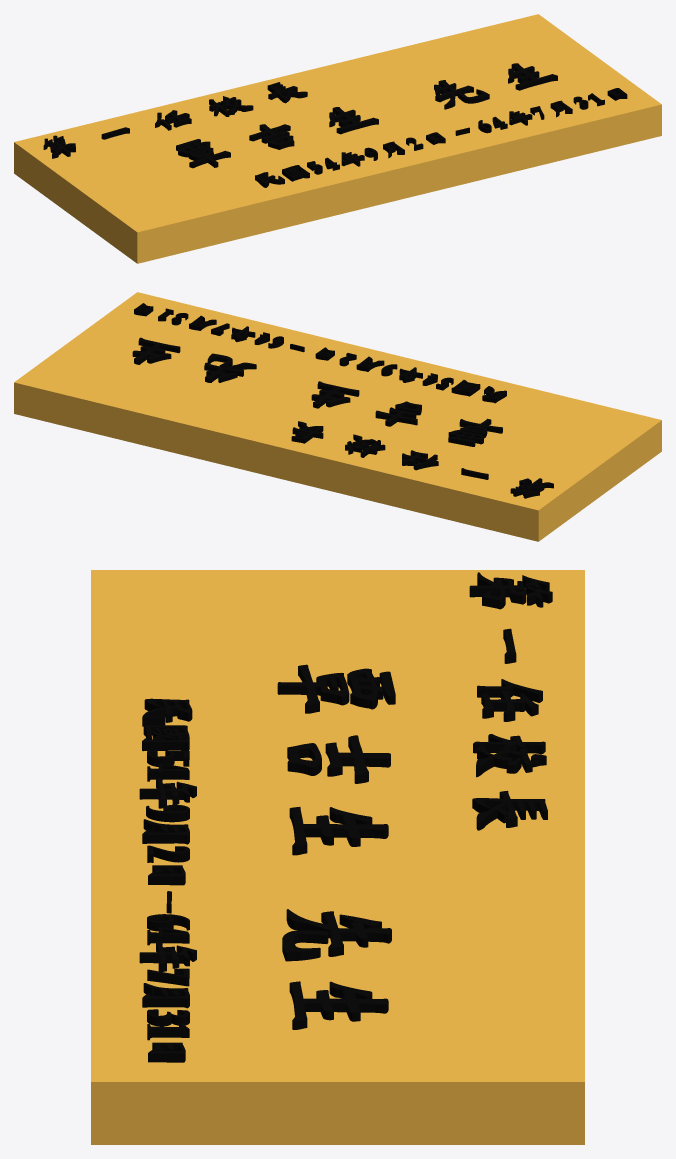
The model's file is 第一任.FBX.
3 renders of one model, top to bottom at view 1: azimuth 30°, elevation 25°; view 2: azimuth 150°, elevation 25°; view 3: azimuth 270°, elevation 25°, orthographic. The views are drawn at different scales.
Parts seen in each view (by area): view 1: Box002, Text013, Text014, Text015; view 2: Box002, Text013, Text014, Text015; view 3: Box002, Text013, Text014, Text015.
Part boxes in pixels (<box>): Box002: <box>14,14,661,263</box>; Text013: <box>176,63,557,168</box>; Text014: <box>255,88,627,187</box>; Text015: <box>43,82,307,158</box>; Box002: <box>14,292,661,541</box>; Text013: <box>132,337,502,446</box>; Text014: <box>134,303,506,403</box>; Text015: <box>291,421,553,498</box>; Box002: <box>91,570,584,1144</box>; Text013: <box>277,664,395,1029</box>; Text014: <box>139,698,196,1062</box>; Text015: <box>469,572,552,830</box>.
Bounding box in the file's own units: 469 × 30.63 × 191.
